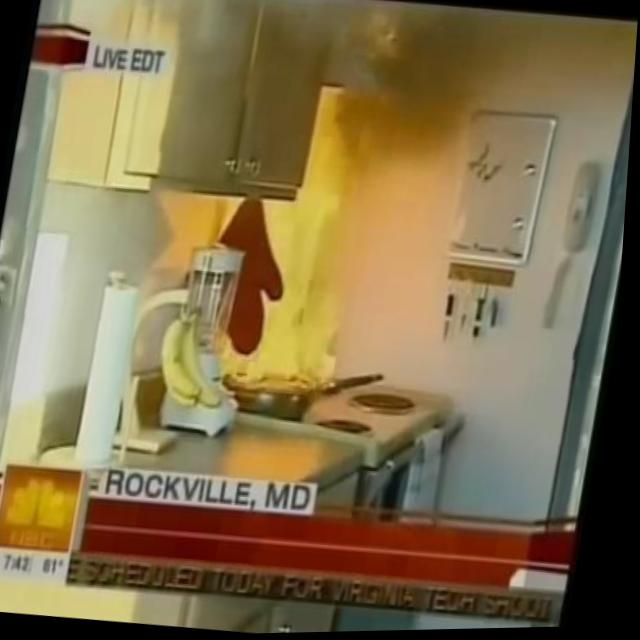fire: (213, 80, 400, 400)
